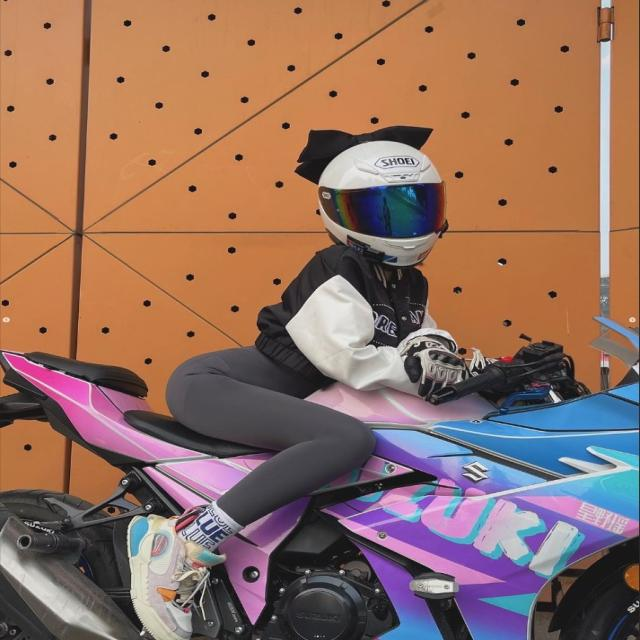helmet: (310, 138, 453, 274)
